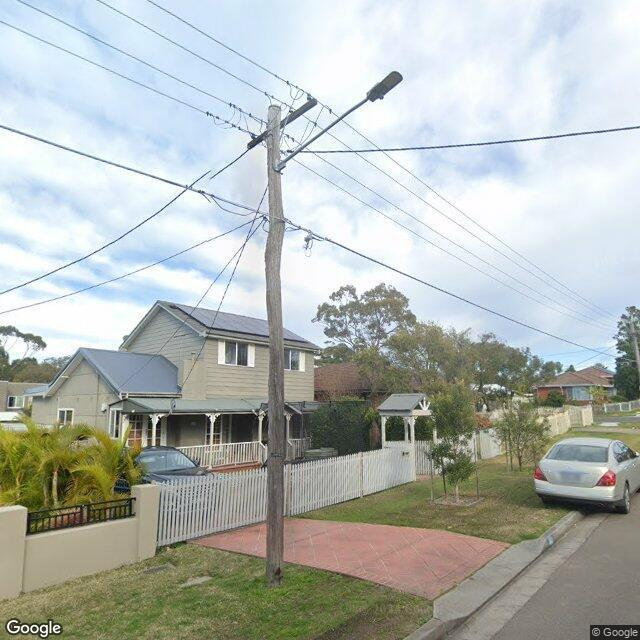crossarm: (248, 98, 318, 150)
streetlight: (277, 70, 403, 174)
timber-pole: (266, 104, 286, 583)
